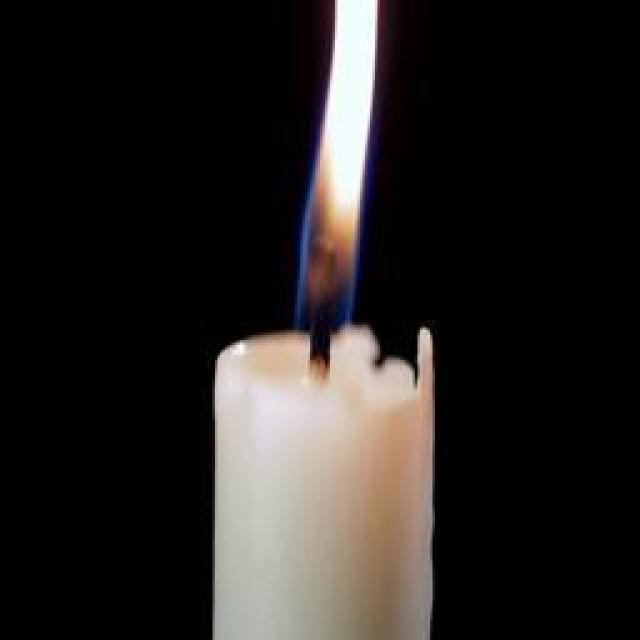Fire: (301, 0, 378, 332)
